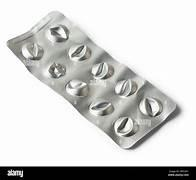pill_Strip: (7, 11, 175, 148), (114, 117, 138, 136), (139, 97, 162, 116), (65, 79, 88, 96), (21, 42, 43, 59), (89, 100, 113, 115), (115, 79, 136, 96), (46, 25, 68, 41), (91, 62, 113, 78), (69, 44, 90, 60), (48, 62, 65, 77)
